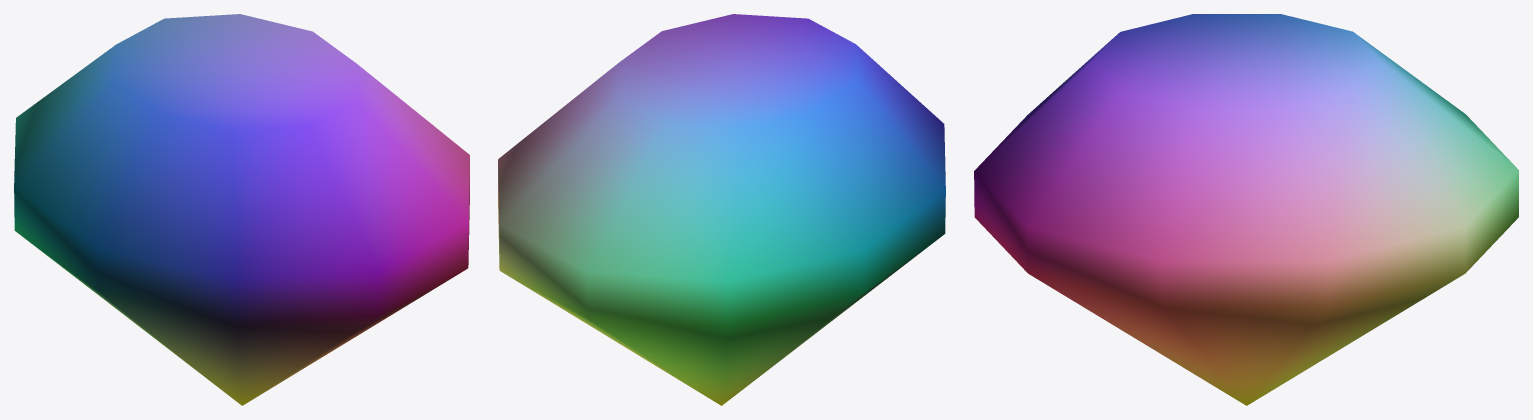
The model's file is SM_Pickup_Gem_Ruby_2.fbx.
3 views of the same model, side by side, from view 1: azimuth 30°, elevation 25°; view 2: azimuth 150°, elevation 25°; view 3: azimuth 270°, elevation 25° (orthographic).
Parts seen in each view (by area): view 1: SM_Pickup_Gem_Ruby_2; view 2: SM_Pickup_Gem_Ruby_2; view 3: SM_Pickup_Gem_Ruby_2.
Part boxes in pixels (x1=…): SM_Pickup_Gem_Ruby_2: x1=14, y1=14, x2=469, y2=405; SM_Pickup_Gem_Ruby_2: x1=498, y1=14, x2=945, y2=405; SM_Pickup_Gem_Ruby_2: x1=974, y1=14, x2=1518, y2=405.
Bounding box in the file's own units: 0.1575 × 0.1376 × 0.2.
